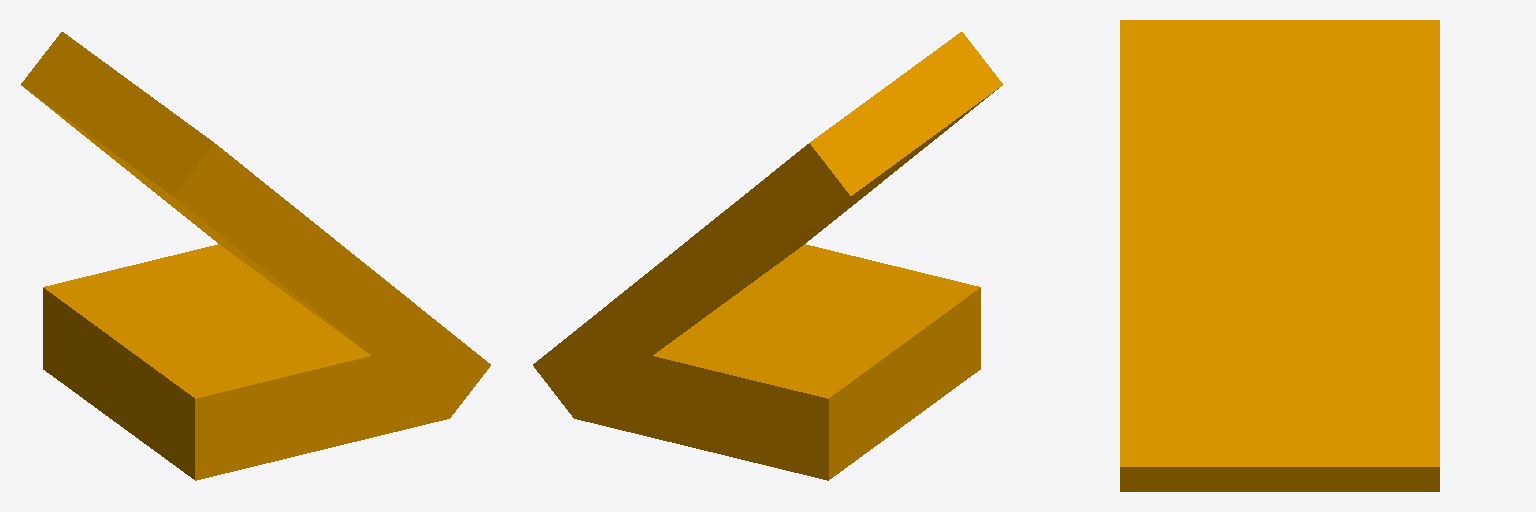
The robot description file, URDF, robot "biped":
<?xml version = "1.0" ?>
<robot name="biped" xmlns:xacro="http://www.ros.org/wiki/xacro">

<!-- revolute joints -->
<joint name="LEFT_HIP_X" type="revolute">
    <origin rpy="0 0 0" xyz="0 0.115 -0.07185" />
    <axis xyz="0 0 -1" />
    <parent link="BODY_LINK" />
    <child link="LEFT_HIP_LINK" />
    <limit effort="1000" lower="-0.7854" upper="0.7854" velocity = "100" />
    <dynamics damping="0.05" friction="0.0"/>
</joint>

<joint name="RIGHT_HIP_X" type="revolute">
    <origin rpy="0 0 0" xyz="0 -0.115 -0.07185" />
    <axis xyz="0 0 -1" />
    <parent link="BODY_LINK" />
    <child link="RIGHT_HIP_LINK" />
    <limit effort="1000" lower="-0.7854" upper="0.7854" velocity = "100" />
    <dynamics damping="0.05" friction="0.0"/>
</joint>

<joint name="LEFT_THIGH_Y" type="revolute">
    <origin rpy="0 0 0" xyz="0.035 0.015 -0.04975" />
    <axis xyz="1 0 0" />
    <parent link="LEFT_HIP_LINK" />
    <child link="LEFT_THIGH_LINK" />
    <limit effort="1000" lower="-0.5236" upper="1.0472" velocity = "100" />
    <dynamics damping="0.05" friction="0.0"/>
</joint>

<joint name="RIGHT_THIGH_Y" type="revolute">
    <origin rpy="0 0 0" xyz="0.035 -0.015 -0.04975" />
    <axis xyz="1 0 0" />
    <parent link="RIGHT_HIP_LINK" />
    <child link="RIGHT_THIGH_LINK" />
    <limit effort="1000" lower="-1.0472" upper="0.5236" velocity = "100" />
    <dynamics damping="0.05" friction="0.0"/>
</joint>

<joint name="LEFT_KNEE_Y" type="revolute">
    <origin rpy="0 0 0" xyz="0 0 -0.079068" />
    <axis xyz="0 1 0" />
    <parent link="LEFT_THIGH_LINK" />
    <child link="LEFT_SHIN_LINK" />
    <limit effort="1000" lower="-1.57" upper="0.314" velocity = "100" />
    <dynamics damping="0.05" friction="0.0"/>
</joint>

<joint name='RIGHT_KNEE_Y' type='revolute'>
    <origin rpy="0 0 0" xyz="0 0 -0.38" />
    <axis xyz="0 1 0" />
    <parent link="RIGHT_THIGH_LINK" />
    <child link="RIGHT_SHIN_LINK" />
    <limit effort="350" lower="0" upper="2.62" velocity = "100" />
    <dynamics damping="0.05" friction="0.0"/>
</joint>

<!-- links -->
<link name="BODY_LINK">
  <inertial>
    <mass value="19.0917"/>
    <origin rpy="0 0 0" xyz="0.02073086 2.023E-05 -0.0309812"/>
    <inertia ixx="0.0942" ixy="6.05E-06" ixz="0.000379" iyy="0.0416" iyz="3.37E-07" izz="0.112" />
  </inertial>
  <visual>
    <geometry>
      <mesh filename="package://biped_model/body.STL"/>
    </geometry>
    <origin rpy="0.0 0.0 0.0" xyz="0.0 0.0 0.0"/>
  </visual>
</link>

<link name="LEFT_HIP_LINK">
  <inertial>
    <mass value="1.814"/>
    <origin rpy="0 0 0" xyz="-0.00629727 0.00606893 -0.03971844"/>
    <inertia ixx="0.004741914" ixy="0.000527" ixz="-0.000307" iyy="0.00414" iyz="1.36E-05" izz="0.00569" />
  </inertial>
  <visual>
    <geometry>
      <mesh filename="package://biped_model/hip.obj"/>
    </geometry>
    <origin rpy="0.0 0.0 0.0" xyz="0.0 0.0 0.0"/>
  </visual>
</link>

<link name="RIGHT_HIP_LINK">
  <inertial>
    <mass value="1.814"/>
    <origin rpy="0 0 0" xyz="-0.00629727 -0.00606893 -0.03971844"/>
    <inertia ixx="0.004741914" ixy="-0.000527" ixz="-0.000307" iyy="0.00414" iyz="-1.36E-05" izz="0.00569" />
  </inertial>
  <visual>
    <geometry>
      <mesh filename="package://biped_model/hip.obj"/>
    </geometry>
    <origin rpy="0.0 0.0 0.0" xyz="0.0 0.0 0.0"/>
  </visual>
</link>

<link name="LEFT_THIGH_LINK">
  <inertial>
    <mass value="0.762"/>
    <origin rpy="0 0 0" xyz="-0.01327037 0.00316985 -0.05399997"/>
    <inertia ixx="0.001028994" ixy="-9.31E-06" ixz="0.000352" iyy="0.00138" iyz="3.22E-05" izz="0.000663" />
  </inertial>
  <visual>
    <geometry>
      <mesh filename="package://biped_model/thigh.obj"/>
    </geometry>
    <origin rpy="0.0 0.0 0.0" xyz="0.0 0.0 0.0"/>
  </visual>
</link>

<link name="RIGHT_THIGH_LINK">
  <inertial>
    <mass value="0.762"/>
    <origin rpy="0 0 0" xyz="-0.01327037 -0.00316985 -0.05399997"/>
    <inertia ixx="0.001028994" ixy="9.31E-06" ixz="0.000352" iyy="0.00138" iyz="-3.22E-05" izz="0.000663" />
  </inertial>
  <visual>
    <geometry>
      <mesh filename="package://biped_model/thigh.obj"/>
    </geometry>
    <origin rpy="0.0 0.0 0.0" xyz="0.0 0.0 0.0"/>
  </visual>
</link>

<link name="LEFT_SHIN_LINK">
  <inertial>
    <mass value="10.953"/>
    <origin rpy="0 0 0" xyz="-0.00093749 0.01134511 -0.17863144"/>
    <inertia ixx="0.1622268263" ixy="-0.000749" ixz="0.0156" iyy="0.174" iyz="0.00213" izz="0.0528" />
  </inertial>
  <visual>
    <geometry>
      <mesh filename="package://biped_model/shin.obj"/>
    </geometry>
    <origin rpy="0.0 0.0 0.0" xyz="0.0 0.0 0.0"/>
  </visual>
</link>

<link name="RIGHT_SHIN_LINK">
  <inertial>
    <mass value="10.953"/>
    <origin rpy="0 0 0" xyz="-0.00093749 -0.01134511 -0.17863144"/>
    <inertia ixx="0.1622268263" ixy="0.000749" ixz="0.0156" iyy="0.174" iyz="-0.00213" izz="0.0528" />
  </inertial>
  <visual>
    <geometry>
      <mesh filename="package://biped_model/shin.obj"/>
    </geometry>
    <origin rpy="0.0 0.0 0.0" xyz="0.0 0.0 0.0"/>
  </visual>
</link>

</robot>

--- Facts derived from the render (not from the file) ---
3 views of the same robot in one strip: view 1: azimuth 30°, elevation 25°; view 2: azimuth 150°, elevation 25°; view 3: azimuth 270°, elevation 25° (orthographic).
Model biped with 7 links and 6 joints (6 revolute), rooted at BODY_LINK, posed every joint at zero.
Links seen in each view (by area): view 1: BODY_LINK; view 2: BODY_LINK; view 3: BODY_LINK.
Boxes of the visible links, x1,y1,x2,y2 form: BODY_LINK: (21,32,490,480); BODY_LINK: (533,32,1002,480); BODY_LINK: (1120,20,1439,491).
Size in the robot's own frame: 0.1626 by 0.135 by 0.1626 metres.
Meshes: 4 distinct files referenced, 1 mesh visuals loaded (1 binary STL); not drawn: 6 (reference not matched to a file when rendering).